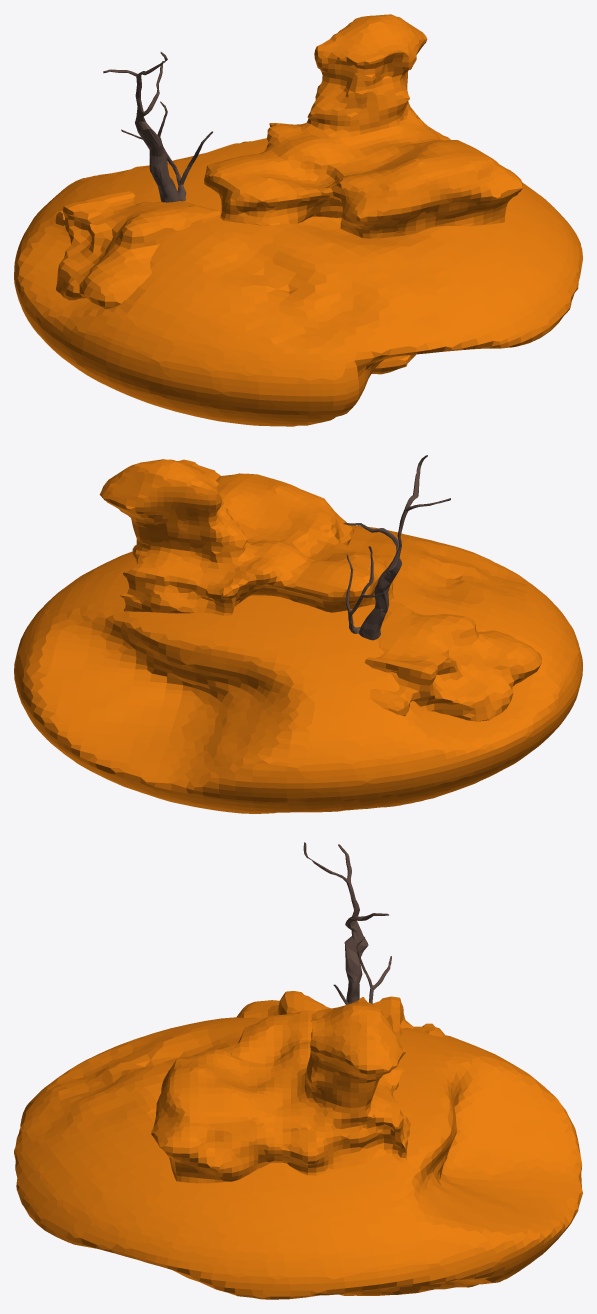
Rendered from desert3.glb.
3 renders of one model, top to bottom at view 1: azimuth 30°, elevation 25°; view 2: azimuth 150°, elevation 25°; view 3: azimuth 270°, elevation 25°, orthographic. The views are drawn at different scales.
Parts seen in each view (by area): view 1: Cube.050; view 2: Cube.050; view 3: Cube.050.
Boxes of the visible parts, box(x1,y1,x2,y2) form: Cube.050: box(14, 14, 582, 426); Cube.050: box(14, 455, 582, 813); Cube.050: box(14, 842, 582, 1299).
Bounding box in the file's own units: 8.07 × 5.32 × 7.78.
